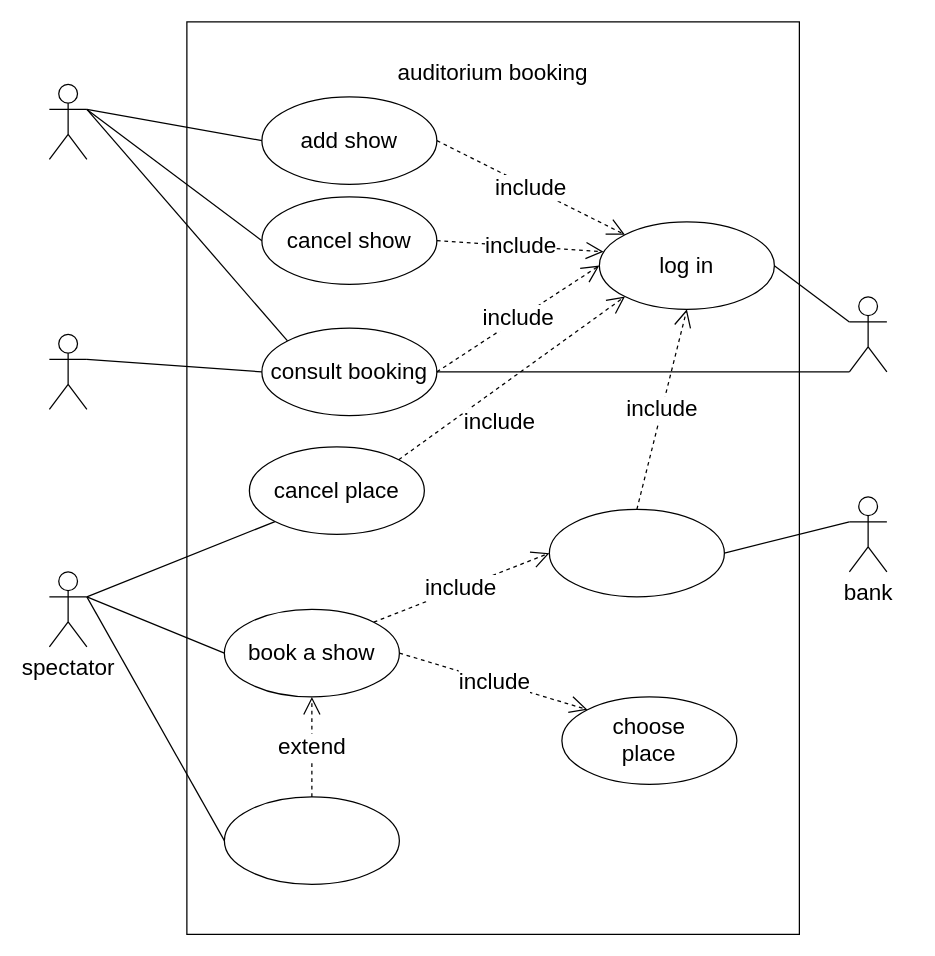
Image size: 935x956. Some labels were removed from this diagram. The centre of each missing label's shape, as x and y in pixels:
artist: (67,371)
consult shows: (311,840)
database: (867,334)
manager: (67,121)
pay: (636,552)
